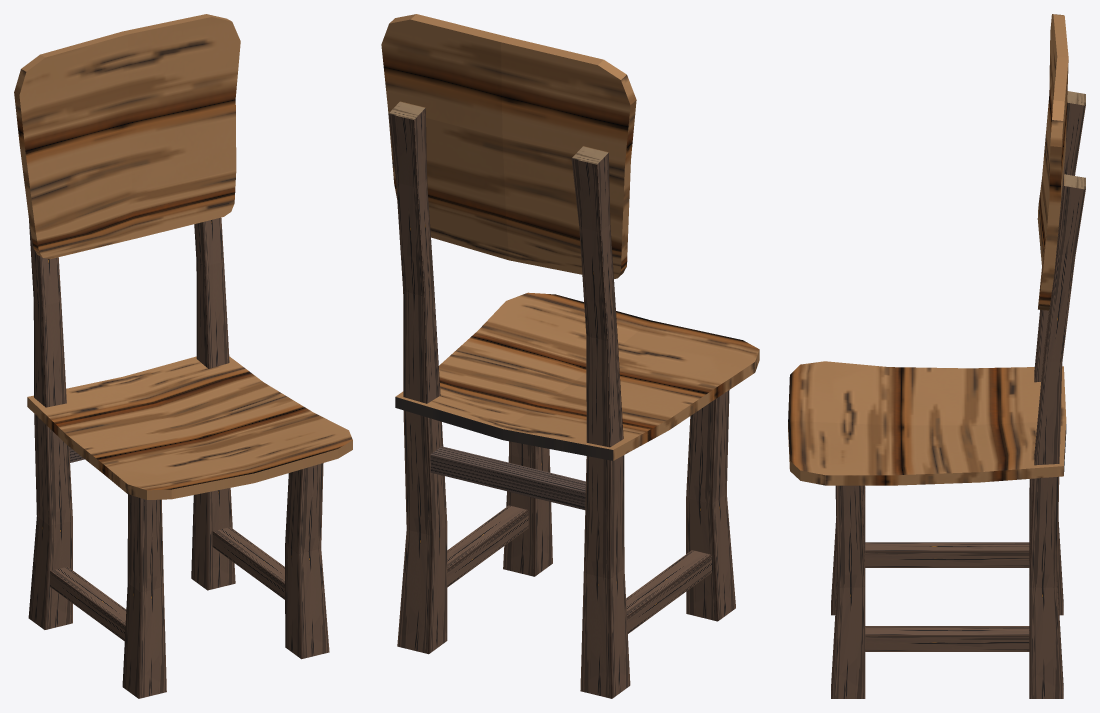
Rendered from furniture_chair_02.fbx.
3 renders of one model, left to right at view 1: azimuth 30°, elevation 25°; view 2: azimuth 150°, elevation 25°; view 3: azimuth 270°, elevation 25°, orthographic. The views are drawn at different scales.
Parts seen in each view (by area): view 1: furniture_chair_02; view 2: furniture_chair_02; view 3: furniture_chair_02.
Boxes of the visible parts, x1,y1,x2,y2 form: furniture_chair_02: (14, 14, 352, 698); furniture_chair_02: (381, 14, 759, 698); furniture_chair_02: (788, 14, 1085, 698).
Bounding box in the file's own units: 0.5477 × 1.32 × 0.601.
Materials: 1 (1 with a texture image).
